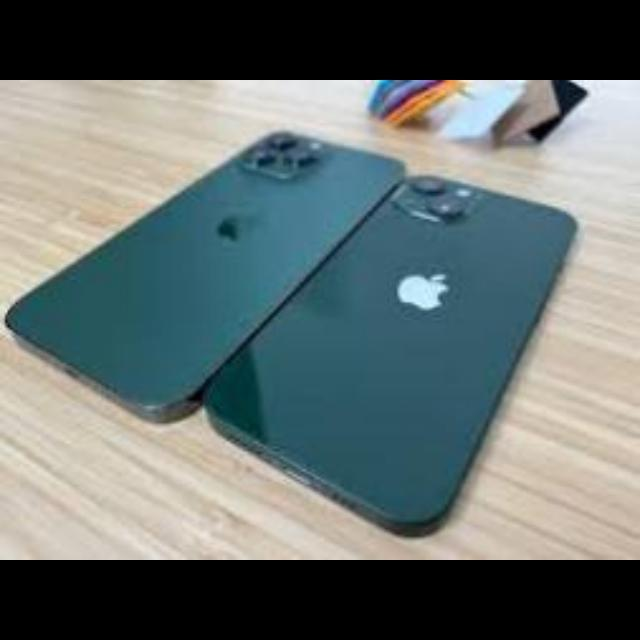Phone: (204, 177, 580, 538), (6, 130, 408, 420)
